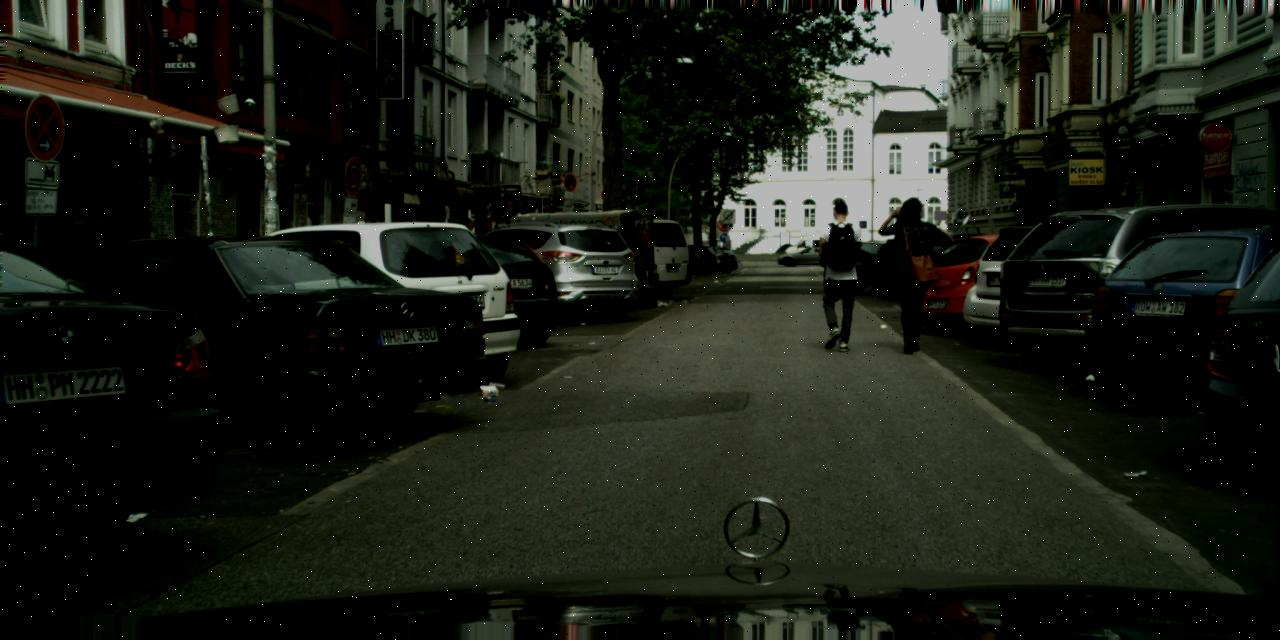ped: (881, 196, 945, 354), (809, 200, 870, 351)
